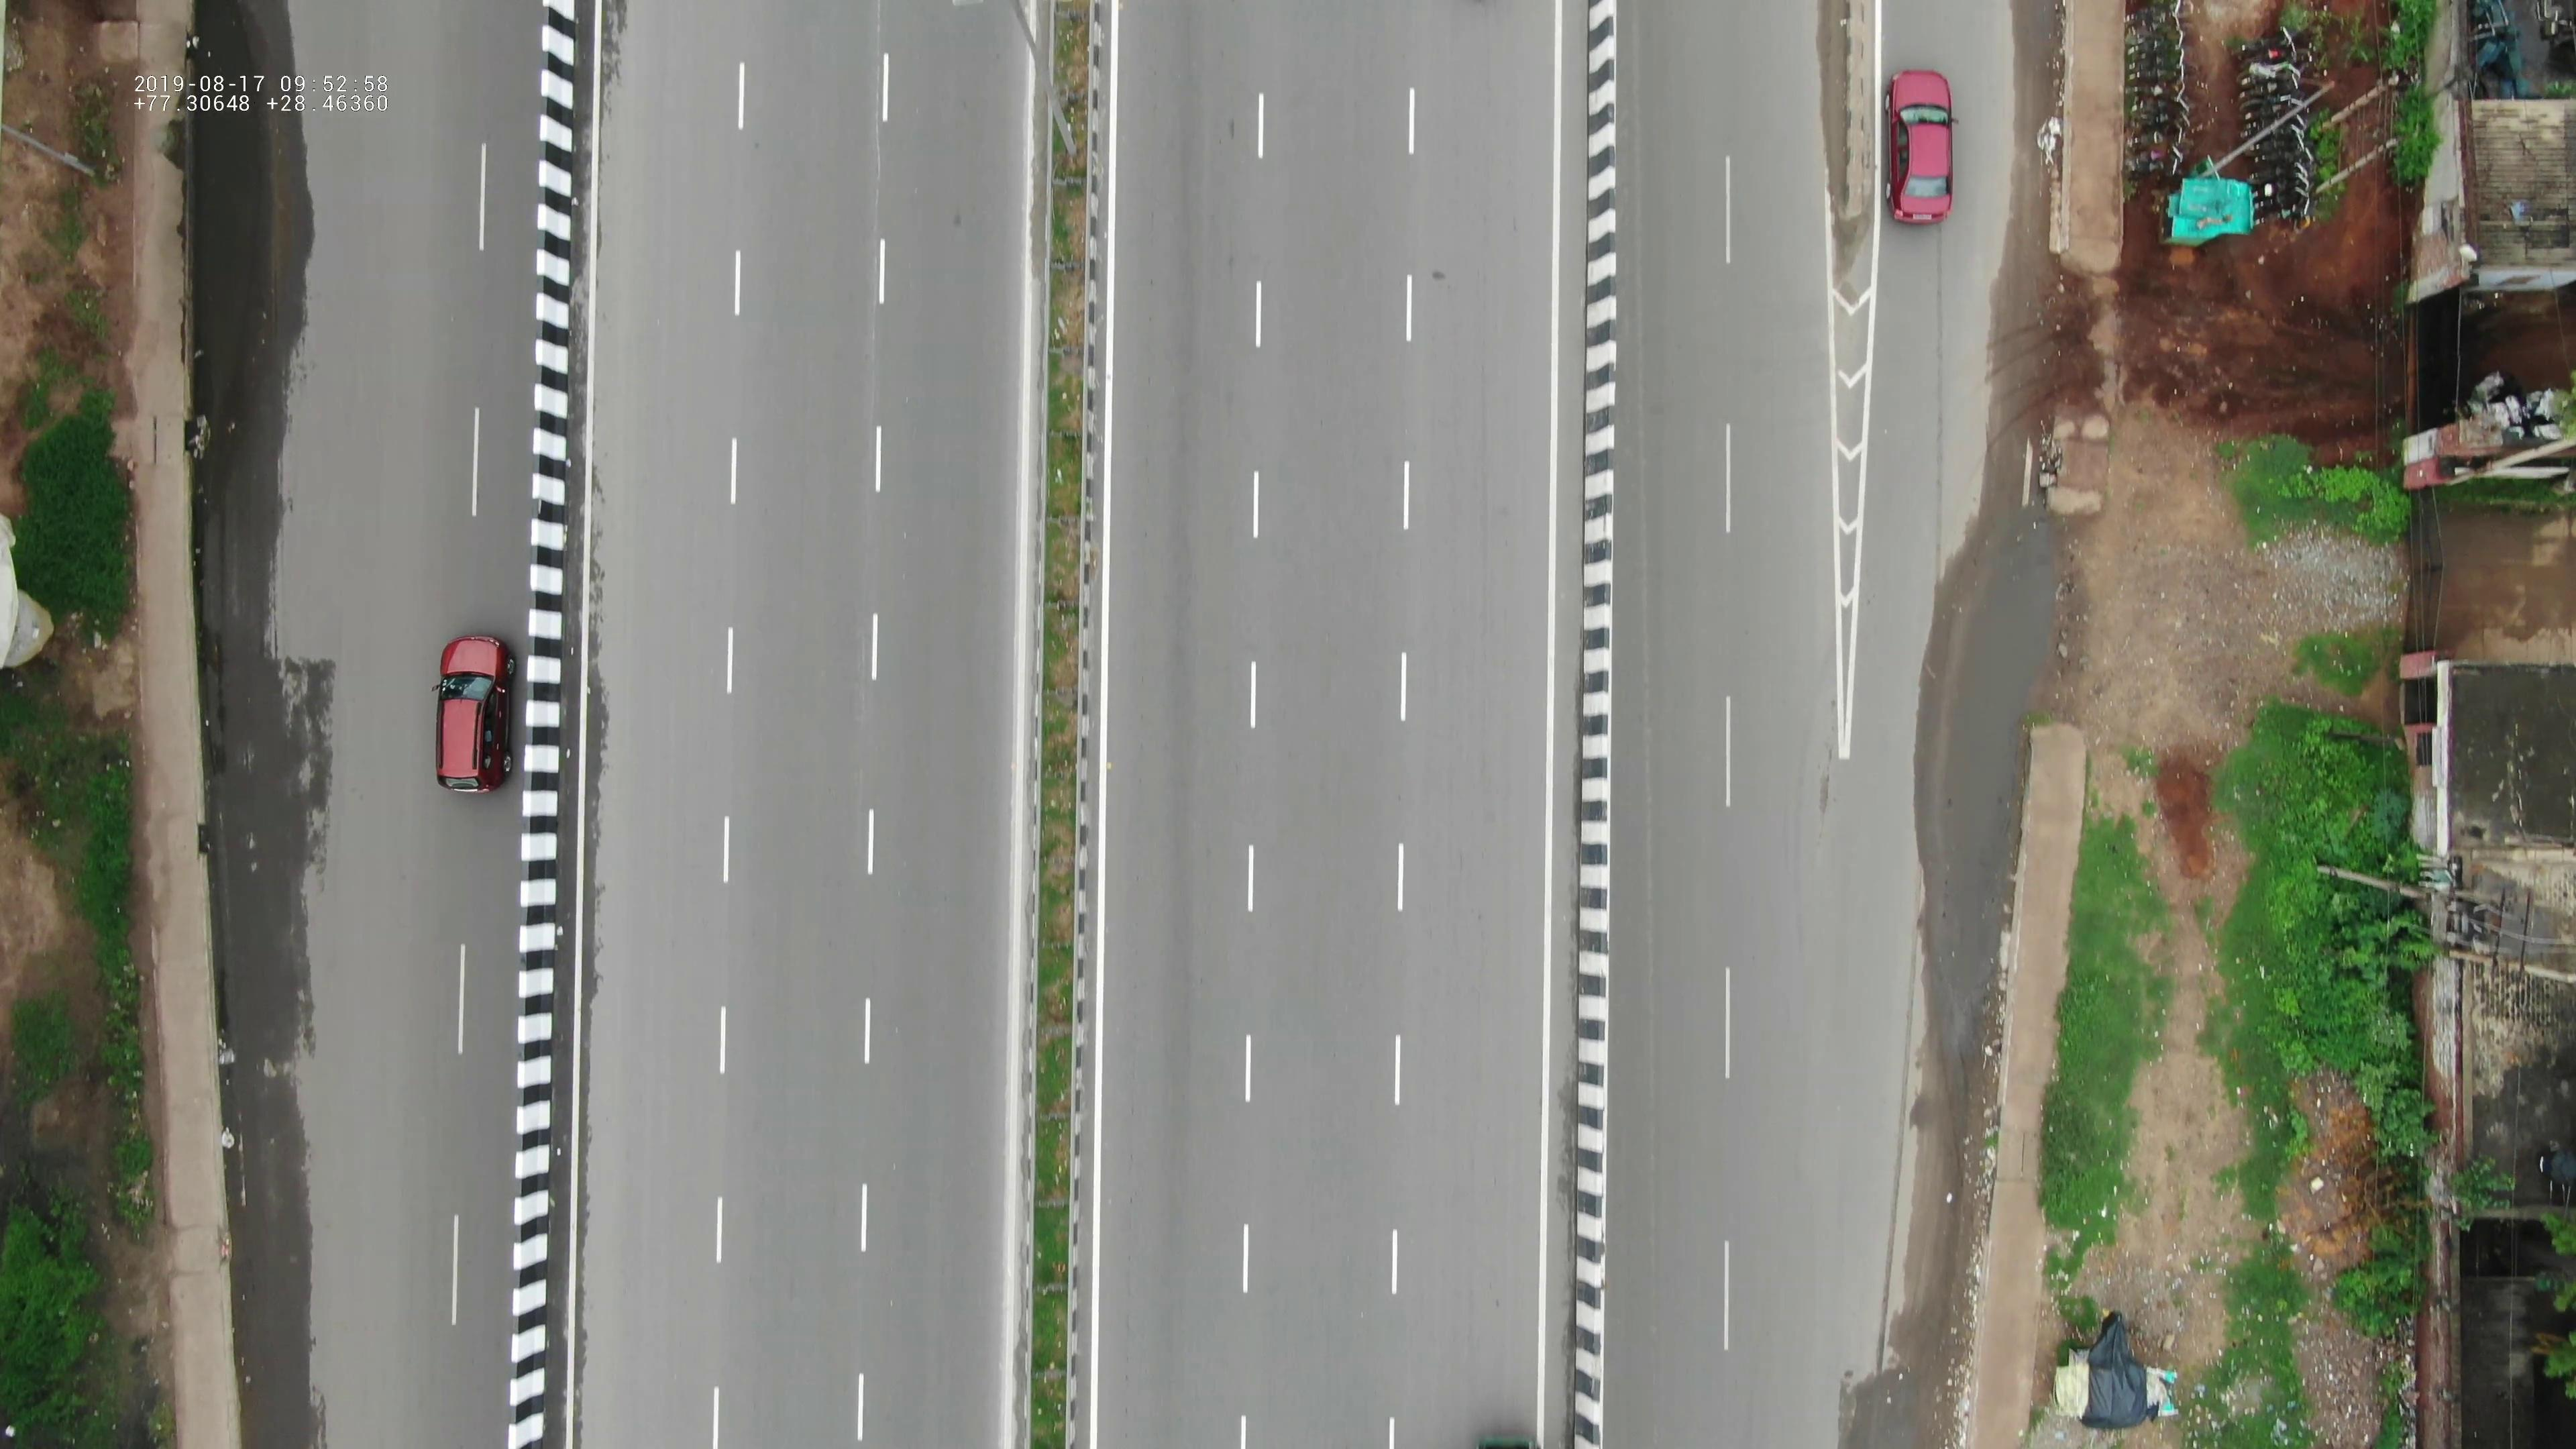Muddy_road: (1976, 122, 2082, 393)
Waterlogging: (1907, 472, 2063, 952)
